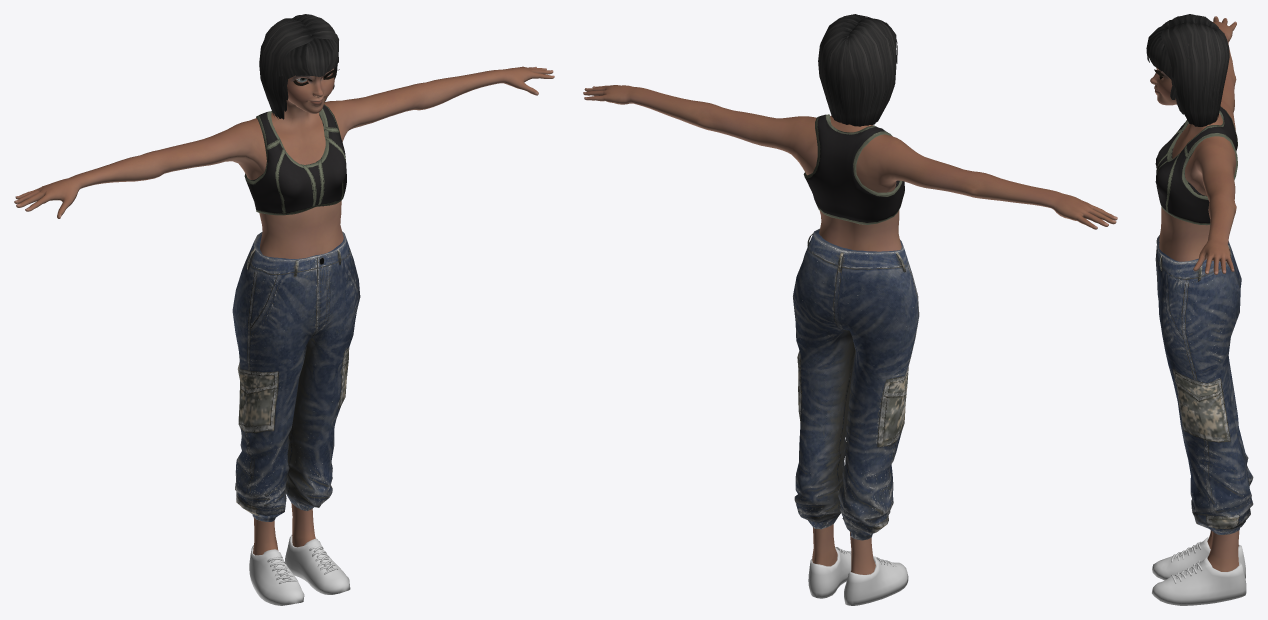
The model's file is Dancer1.obj.
The picture shows the model from 3 angles, left to right: view 1: azimuth 30°, elevation 25°; view 2: azimuth 150°, elevation 25°; view 3: azimuth 270°, elevation 25°; orthographic projection.
Visible parts, largest first — view 1: Bottoms, Body, Tops, Hair, Shoes; view 2: Bottoms, Body, Hair, Tops, Shoes; view 3: Bottoms, Body, Hair, Shoes, Tops.
Part boxes in pixels (x1,y1,x2,y2): Bottoms: (232, 231, 360, 521); Body: (14, 66, 554, 555); Tops: (244, 104, 346, 215); Hair: (259, 14, 338, 119); Shoes: (249, 535, 350, 605); Bottoms: (793, 228, 919, 540); Body: (583, 85, 1117, 574); Hair: (818, 14, 897, 126); Tops: (803, 114, 904, 224); Shoes: (808, 547, 908, 605); Bottoms: (1155, 235, 1253, 534); Body: (1150, 16, 1239, 571); Hair: (1146, 14, 1229, 126); Shoes: (1152, 537, 1246, 605); Tops: (1155, 106, 1237, 225).
Bounding box in the file's own units: 169 × 171 × 29.26.
